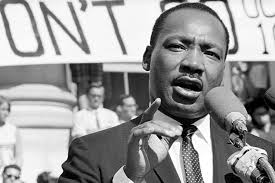black_male: (150, 11, 231, 122)
